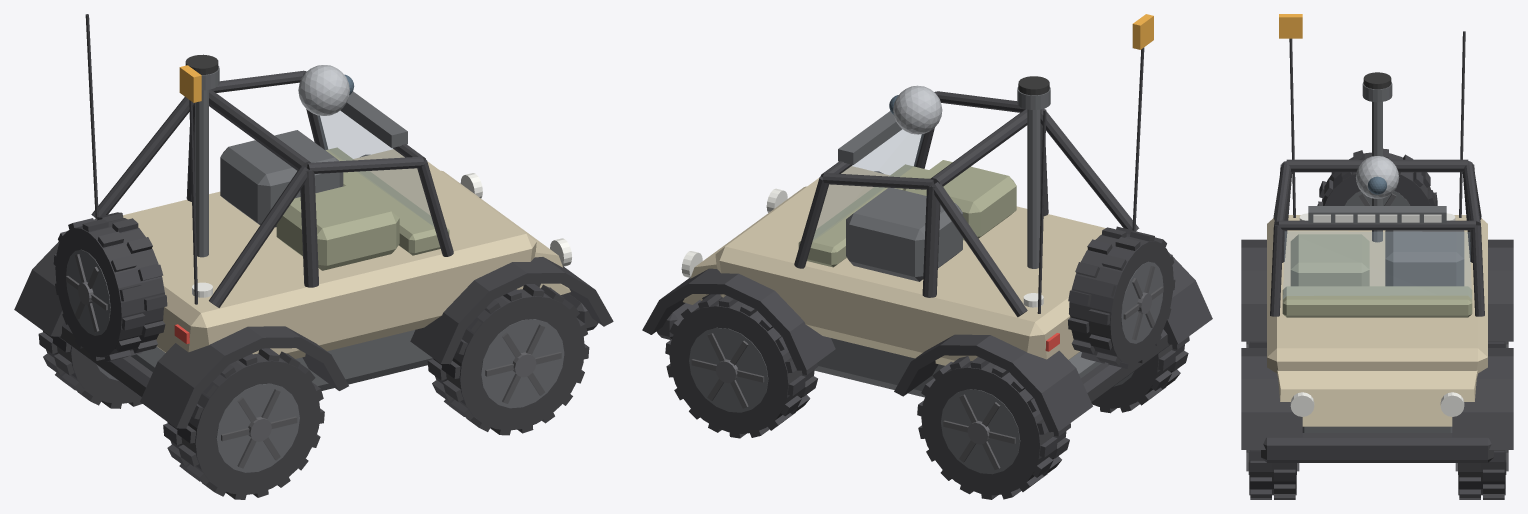
File: rover_4x4.glb
The picture shows the model from 3 angles, left to right: view 1: azimuth 30°, elevation 25°; view 2: azimuth 150°, elevation 25°; view 3: azimuth 270°, elevation 25°; orthographic projection. The views are drawn at different scales.
Parts seen in each view (by area): view 1: rover_v1, wheel_fr_v0, wheel_rr_v0, rover_v64, rover_v16, rover_v15, rover_v7, rover_v0, wheel_rl_v0, rover_v3, rover_v53, rover_v54 (+24 smaller); view 2: rover_v1, wheel_fl_v0, wheel_rl_v0, rover_v64, rover_v15, rover_v7, rover_v16, rover_v0, wheel_rr_v0, rover_v3, rover_v54, rover_v47 (+24 smaller); view 3: rover_v1, rover_v7, rover_v2, rover_v28, rover_v3, rover_v15, rover_v16, rover_v64, wheel_fl_v0, wheel_fr_v0, rover_v14, rover_v30 (+29 smaller).
Part boxes in pixels (x1,y1,x2,y2): rover_v1: [123, 149, 536, 358]; wheel_fr_v0: [427, 283, 589, 435]; wheel_rr_v0: [163, 348, 324, 499]; rover_v64: [53, 212, 167, 361]; rover_v16: [276, 184, 399, 270]; rover_v15: [220, 130, 343, 227]; rover_v7: [318, 111, 433, 226]; rover_v0: [131, 330, 433, 390]; wheel_rl_v0: [38, 331, 142, 408]; rover_v3: [326, 147, 449, 255]; rover_v53: [140, 361, 201, 428]; rover_v54: [195, 90, 208, 257]; rover_v1: [715, 166, 1105, 365]; wheel_fl_v0: [665, 294, 818, 438]; wheel_rl_v0: [917, 356, 1070, 499]; rover_v64: [1068, 226, 1175, 368]; rover_v15: [846, 187, 962, 281]; rover_v7: [813, 129, 923, 240]; rover_v16: [902, 160, 1016, 240]; rover_v0: [814, 338, 1101, 397]; wheel_rr_v0: [1091, 336, 1189, 413]; rover_v3: [798, 164, 928, 267]; rover_v54: [1027, 109, 1040, 268]; rover_v47: [1034, 368, 1092, 432]; rover_v1: [1267, 215, 1487, 373]; rover_v7: [1283, 231, 1471, 298]; rover_v2: [1277, 370, 1477, 426]; rover_v28: [1261, 433, 1493, 462]; rover_v3: [1282, 286, 1472, 317]; rover_v15: [1385, 230, 1464, 286]; rover_v16: [1290, 234, 1369, 286]; rover_v64: [1317, 148, 1437, 205]; wheel_fl_v0: [1455, 450, 1508, 499]; wheel_fr_v0: [1246, 450, 1299, 499]; rover_v14: [1286, 159, 1468, 172]; rover_v30: [1452, 412, 1513, 449].
Bounding box in the file's own units: 2.21 × 1.97 × 1.38.
22 materials, 1 textured.
